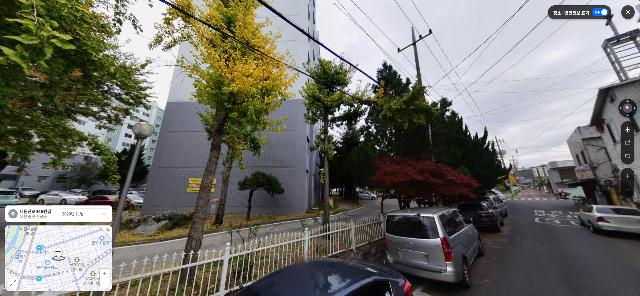ginkgo: (143, 0, 300, 296)
other: (328, 60, 509, 215), (1, 1, 160, 166), (299, 57, 369, 257), (351, 79, 436, 210), (367, 153, 480, 210), (237, 172, 285, 222)
